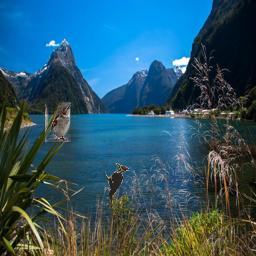Sparrow: (45, 102, 71, 142)
Woodpecker: (103, 163, 129, 203)
